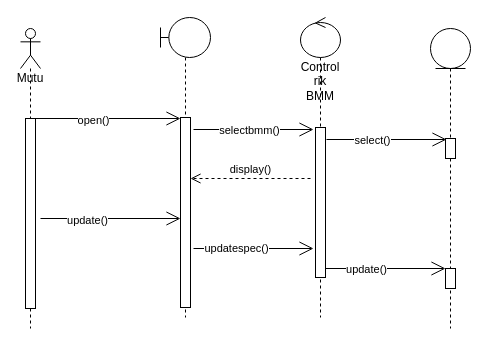
Some shapes in this 488 by 346 pixel diagram are drawn without their labels. Here are the shapes that lost their labels. From the top down, the box of each, then its label:
(160, 16, 210, 318): Halaman rik BMM
(430, 28, 470, 328): List BMM
